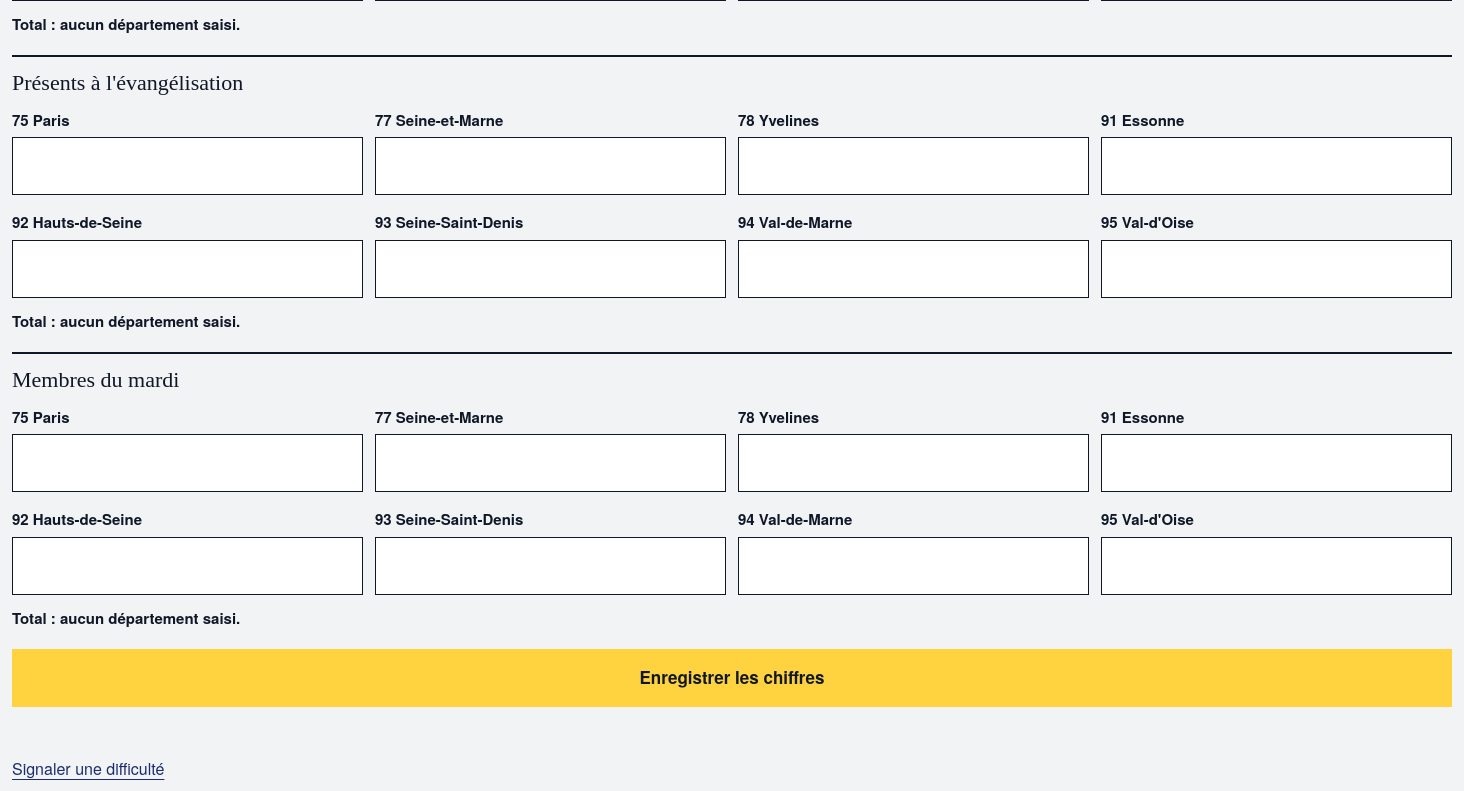
Scenario: FormulaireStatistiquesFij › aucune valeur : « Saisissez au moins un chiffre. », sans envoi
The image size is (1464, 791).
(page scrolled)
Click the button named "Enregistrer les chiffres": (732, 678) [12,649,1452,707]
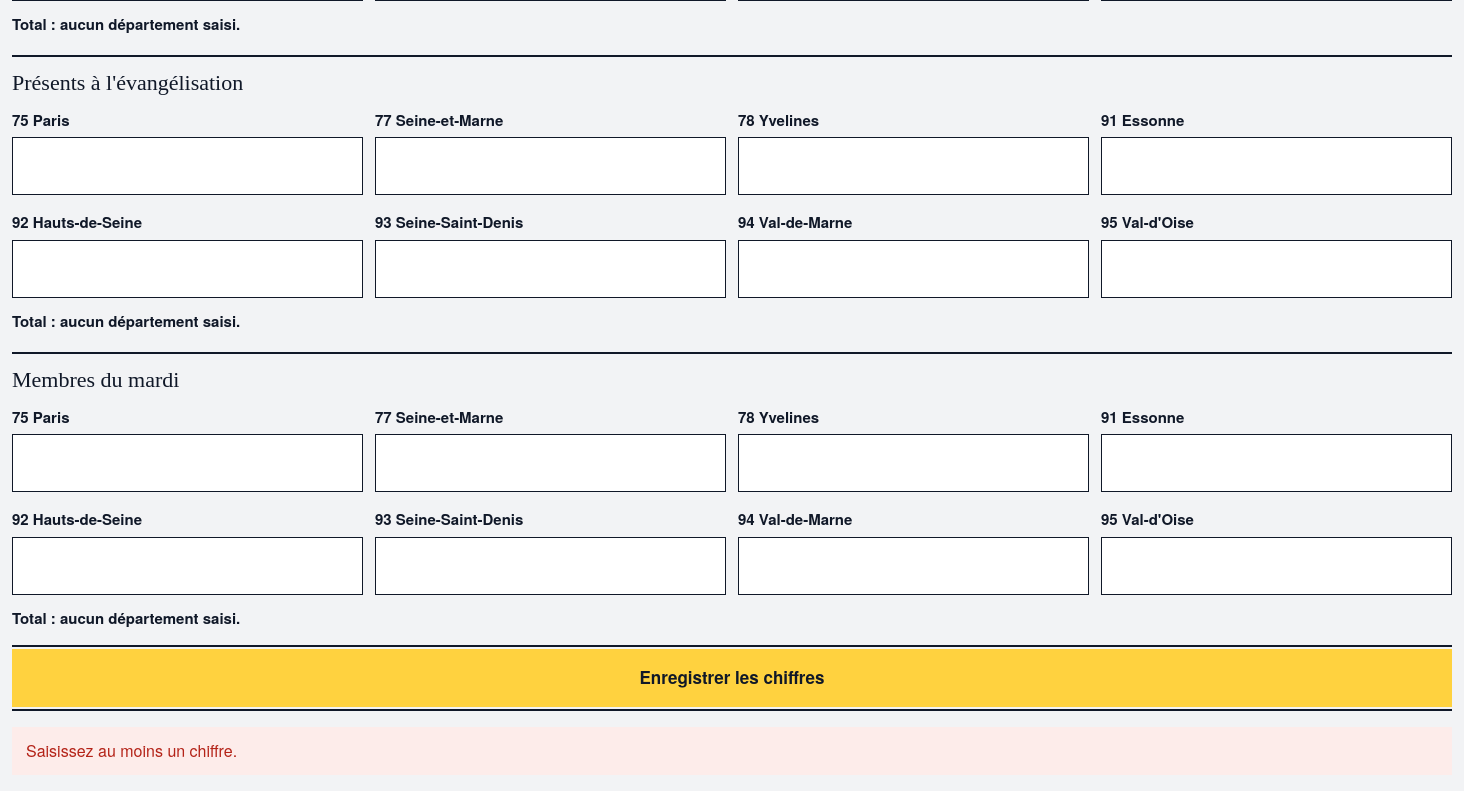
Check: the message reads "Saisissez au moins un chiffre.", box [26,739,237,762]
